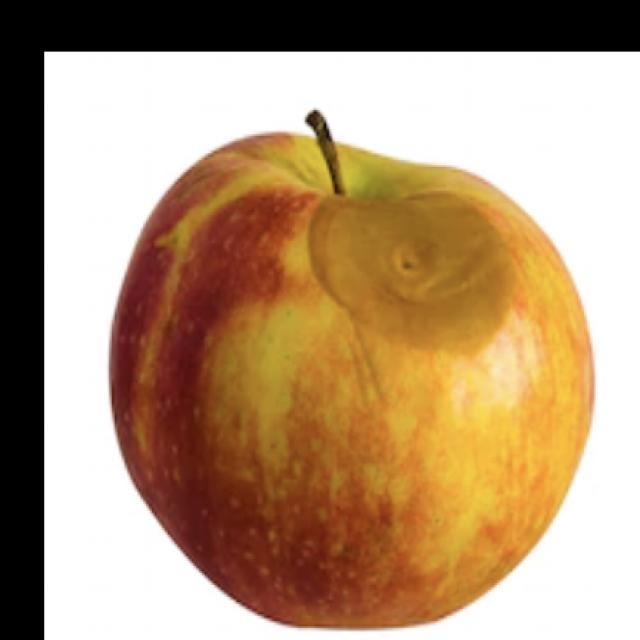Rotten: (110, 118, 603, 620)
